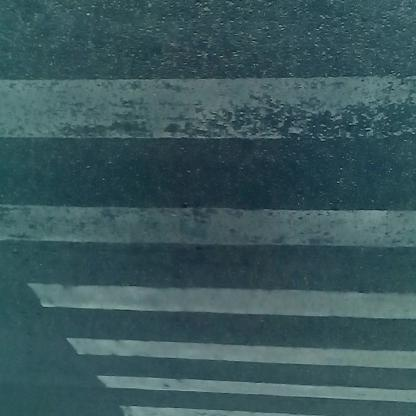crosswalk: (23, 2, 416, 400)
